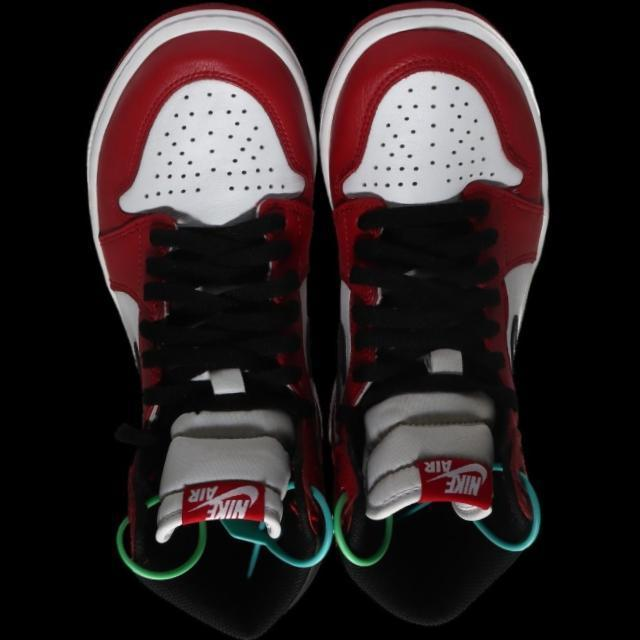nike original jordan 1: (76, 0, 336, 640), (313, 0, 559, 633)
